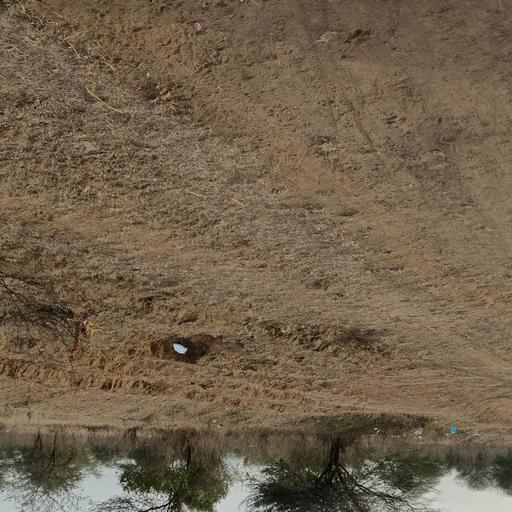vehicle_track: (0, 0, 512, 358)
